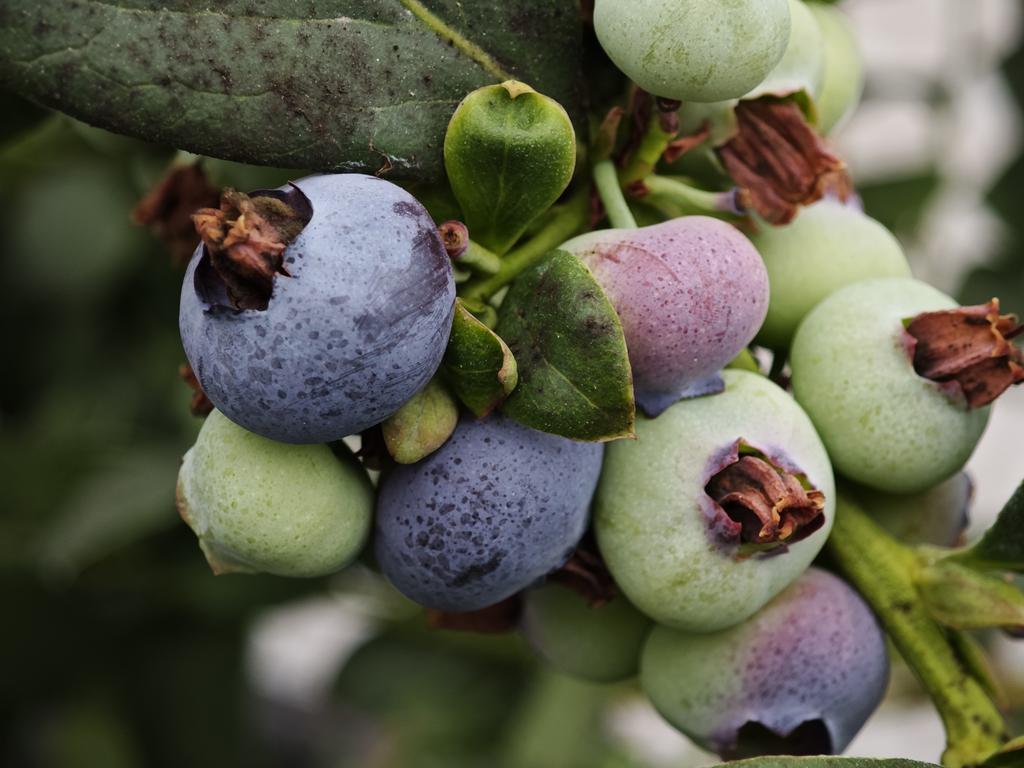RipeBlueBerry: (178, 164, 461, 422), (389, 430, 597, 612)
Semi-RipeBlueBerry: (564, 222, 770, 376)
UnripeBlueBerry: (610, 373, 828, 619), (797, 279, 1002, 476), (170, 410, 372, 582)
